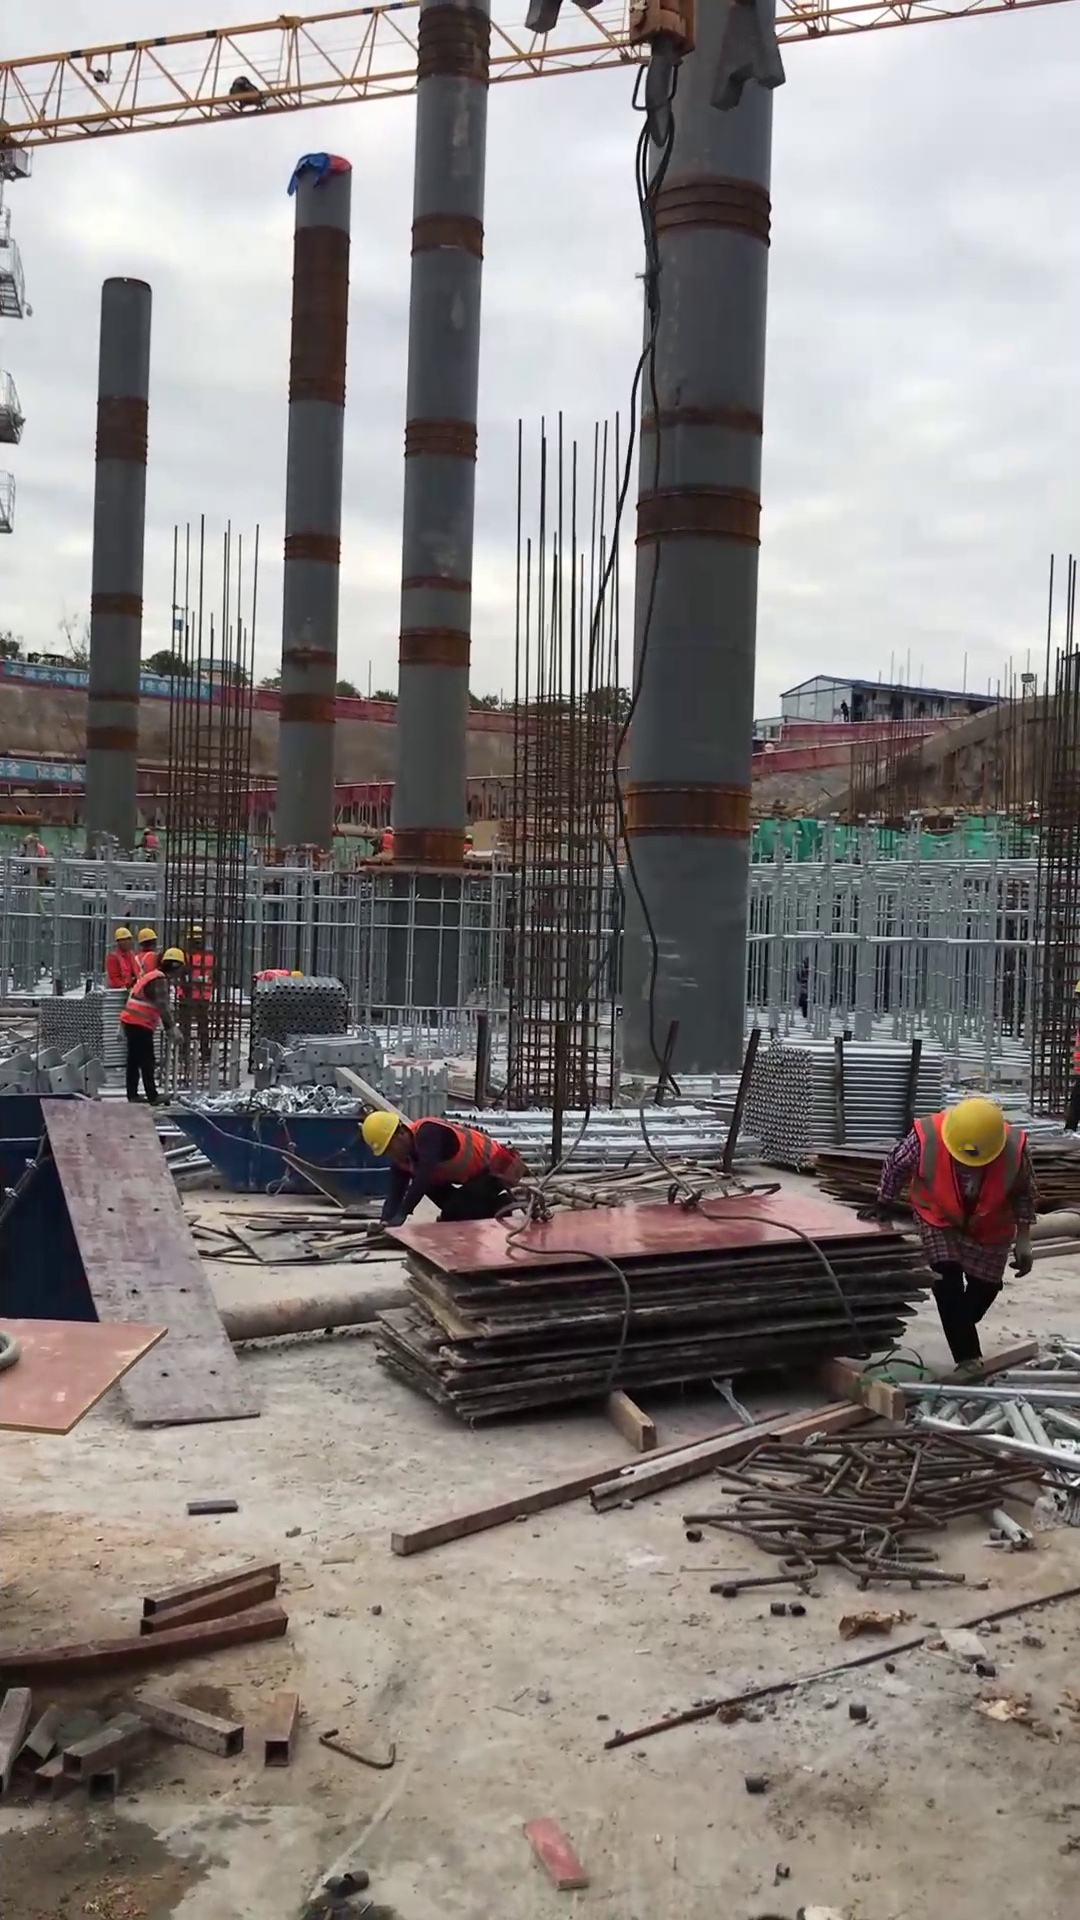board: (371, 1194, 930, 1441)
helmet: (939, 1094, 1011, 1169), (360, 1108, 403, 1163), (132, 922, 158, 953), (158, 943, 186, 972), (108, 926, 132, 947)
hook: (496, 1, 792, 139)
hopper: (176, 1103, 390, 1220)
person: (871, 1086, 1047, 1383), (349, 1104, 535, 1242), (112, 944, 197, 1113), (101, 914, 139, 997), (130, 924, 165, 990)
scaffold: (735, 1028, 950, 1158), (242, 971, 357, 1053), (30, 992, 124, 1075)
slogan: (1, 750, 92, 788), (1, 656, 93, 688)
vest: (900, 1108, 1028, 1254), (407, 1114, 532, 1199), (117, 967, 169, 1036), (104, 949, 133, 989), (133, 947, 160, 985)
